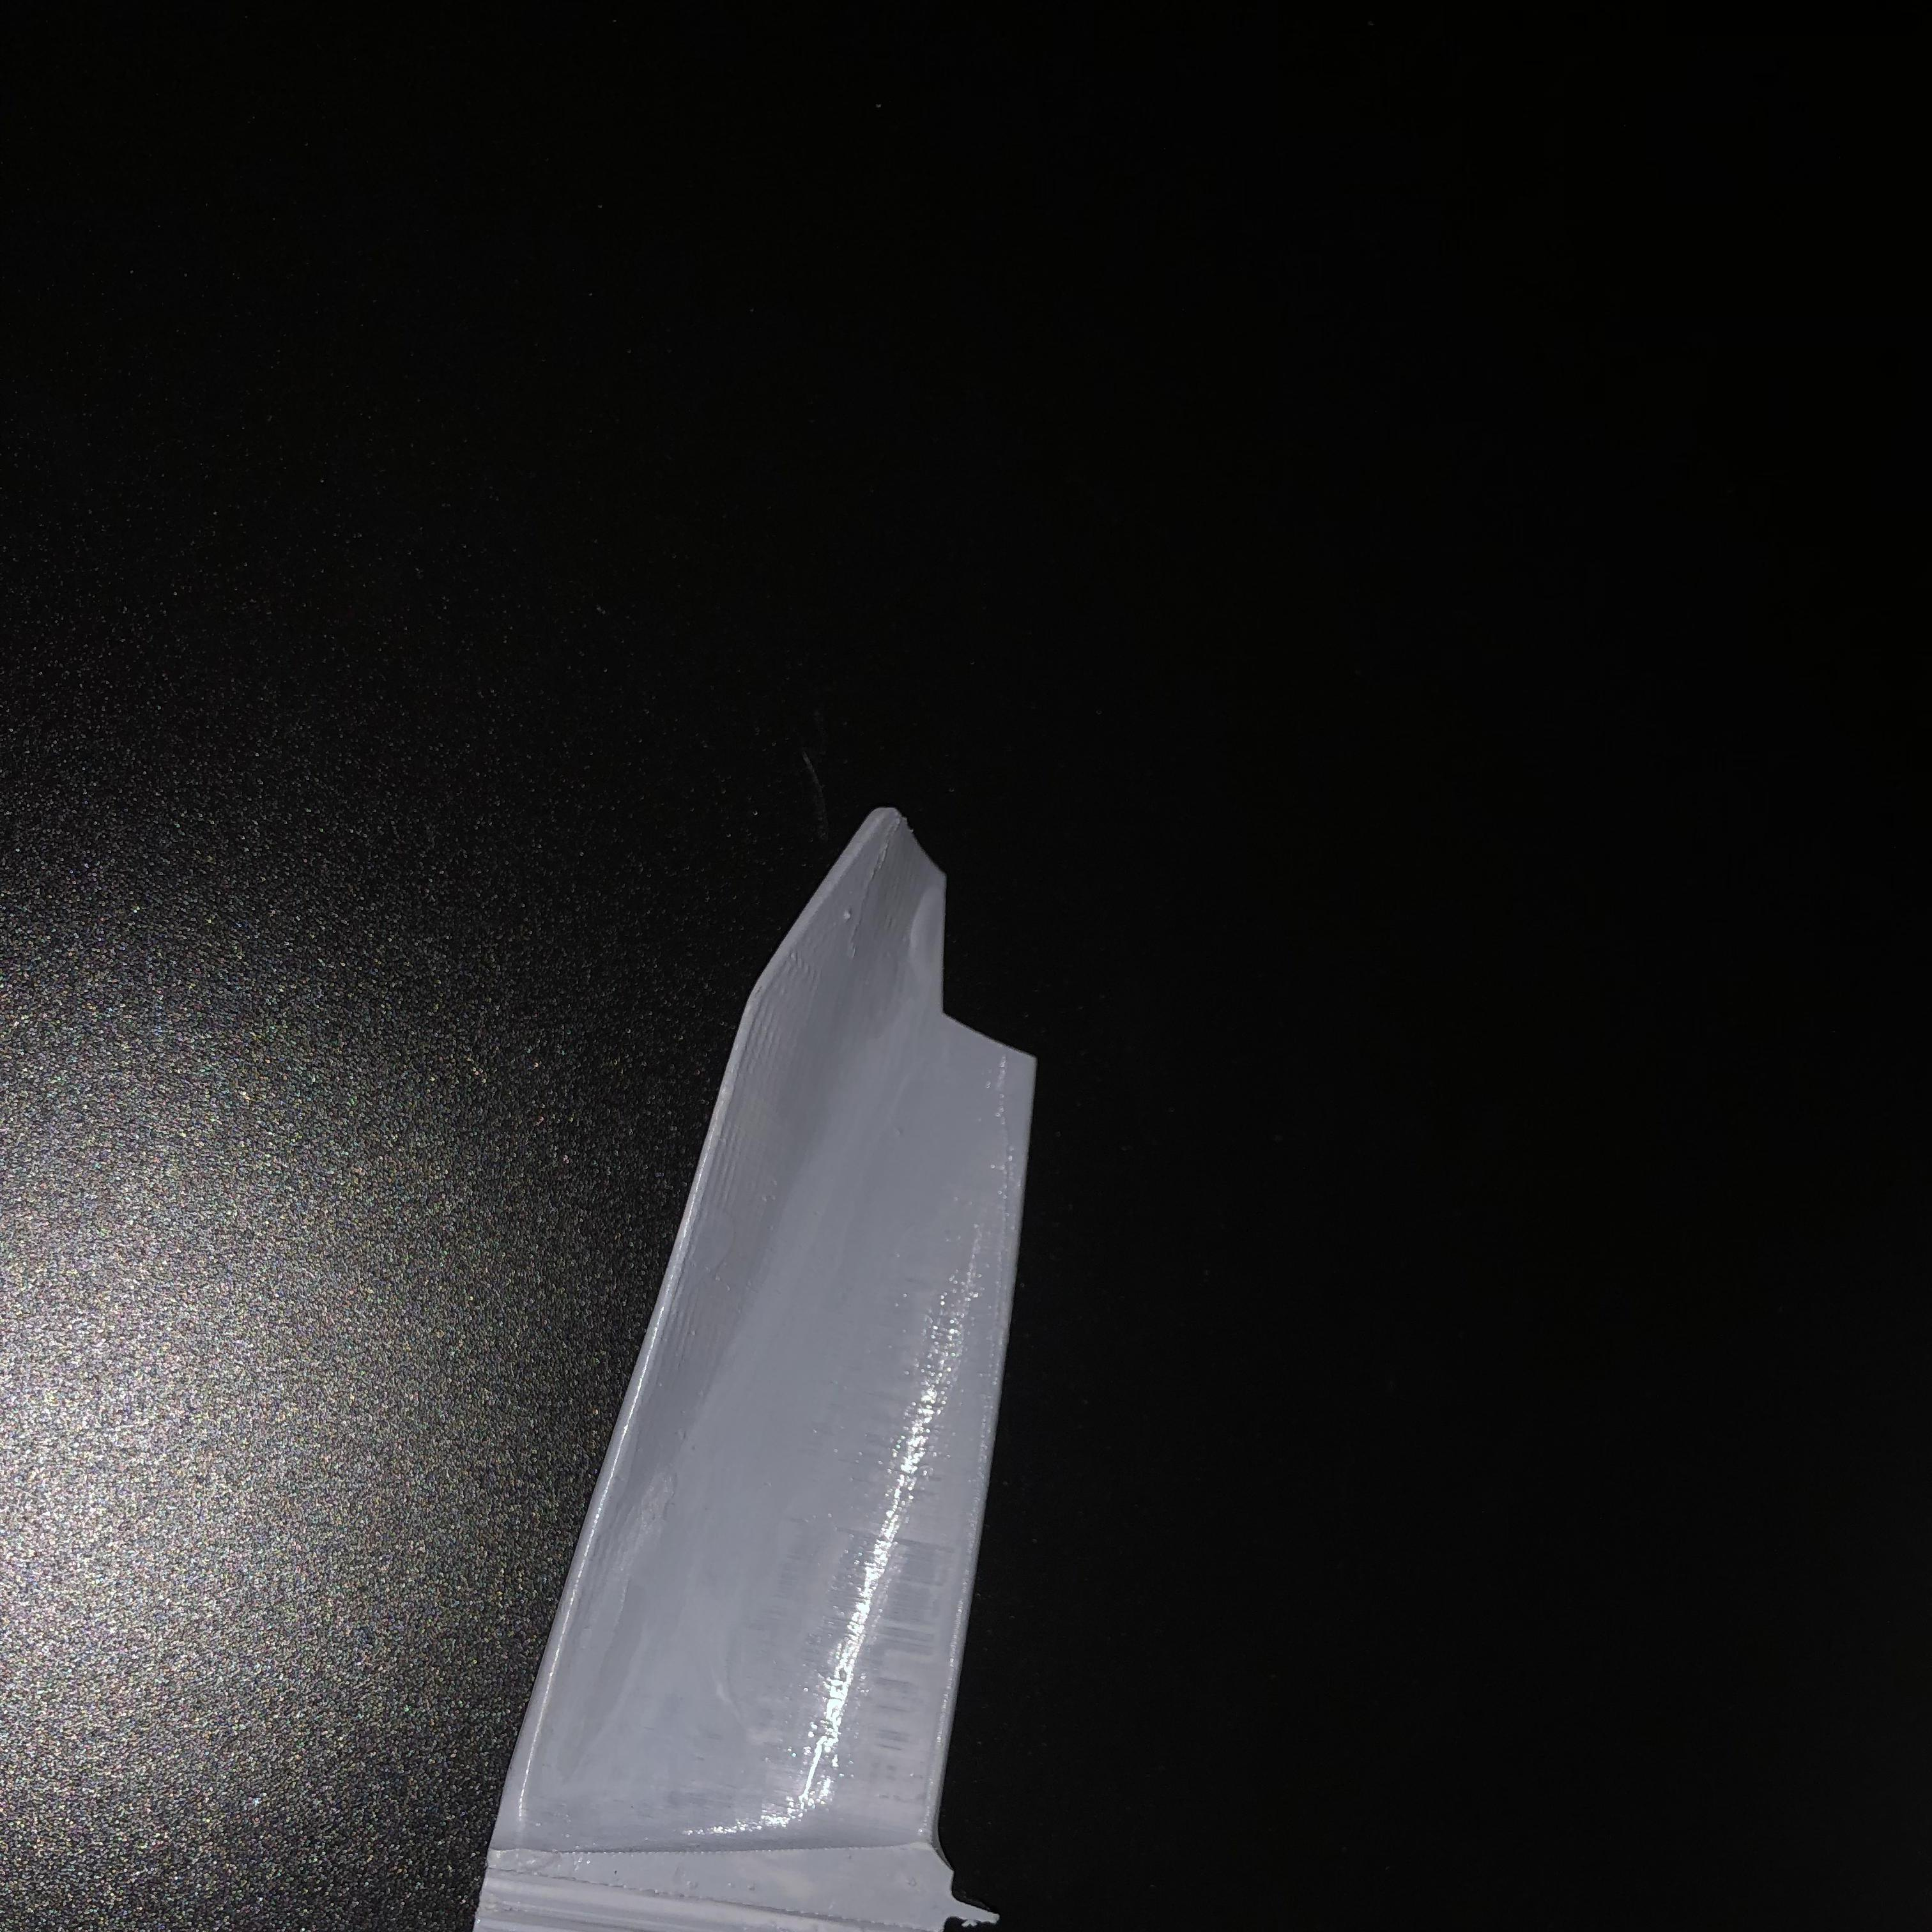fracture: (916, 828, 1049, 1053)
